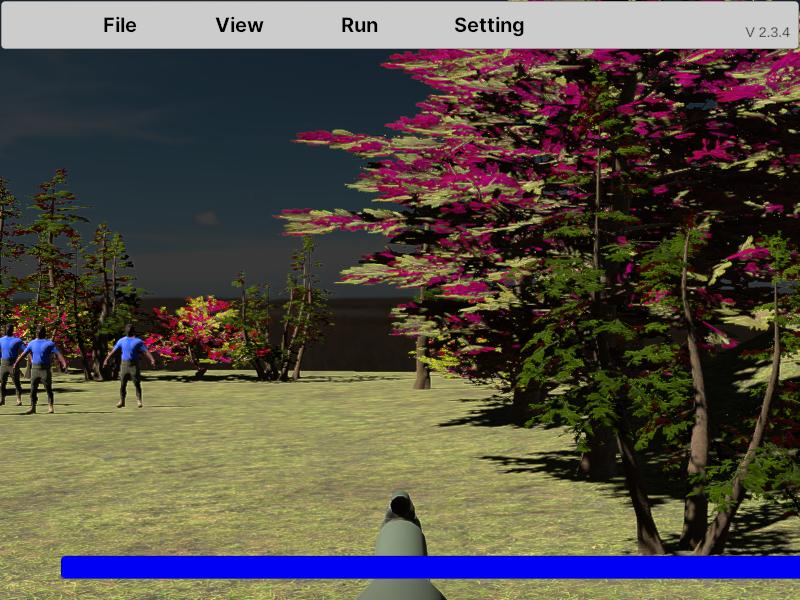Human: (10, 324, 66, 414), (102, 323, 155, 409), (0, 322, 31, 406)
